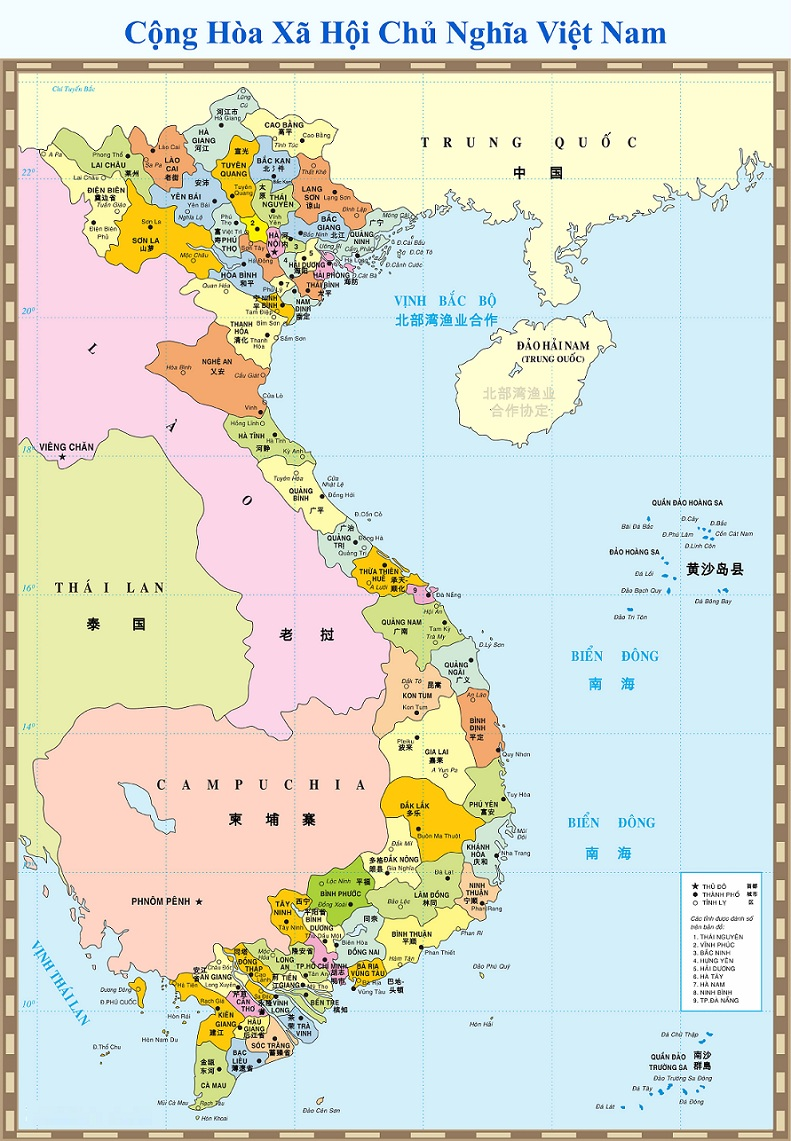Island: (607, 482, 760, 642), (591, 1027, 719, 1116)
